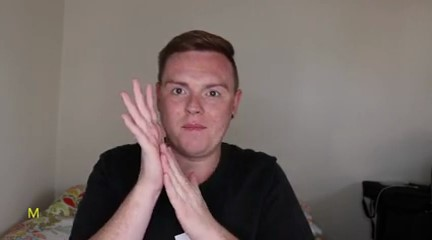H: (112, 74, 224, 240)
